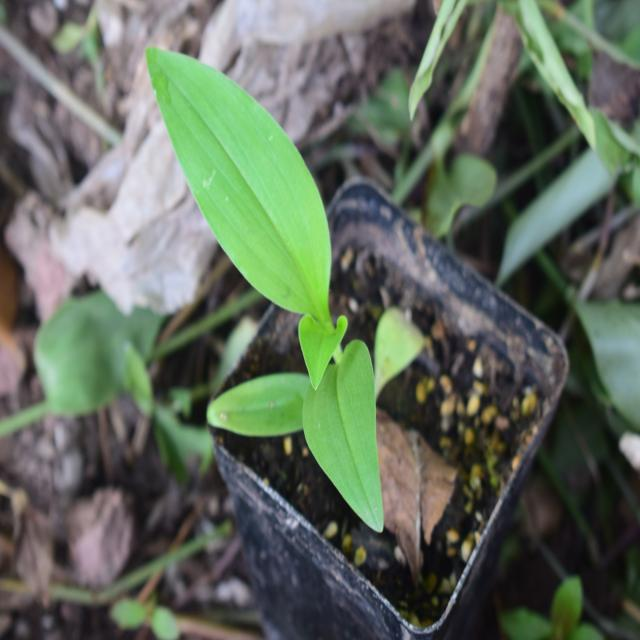Common Dayflower: (146, 40, 392, 532)
